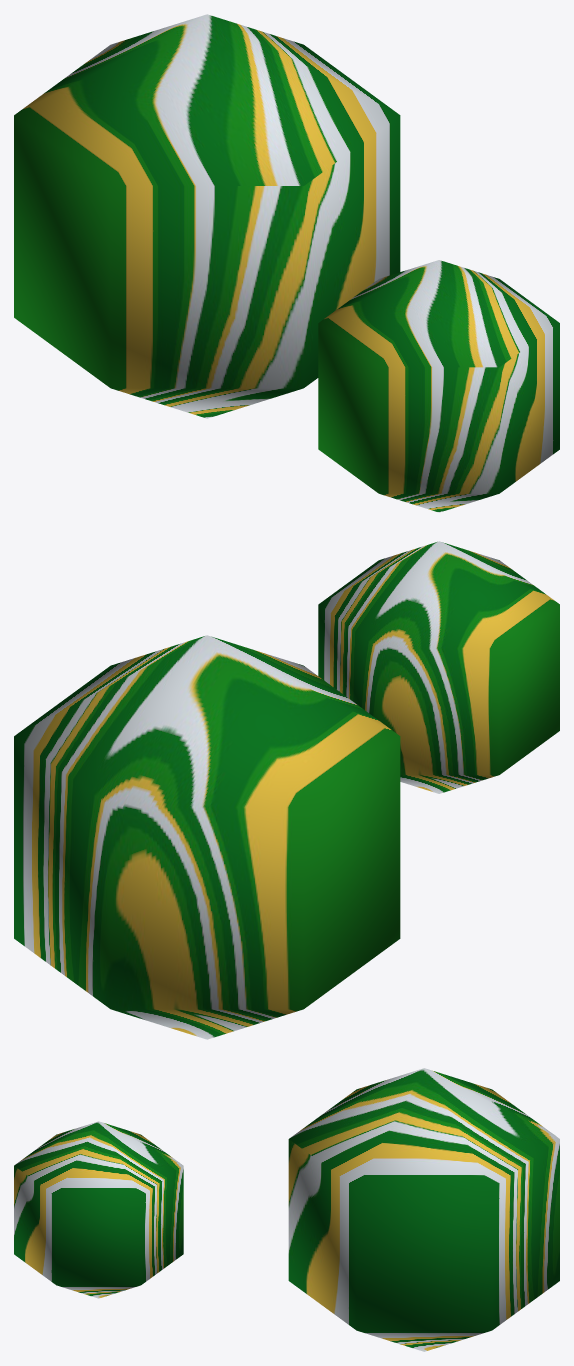
File: junglemarble_selection.DAE
The picture shows the model from 3 angles, top to bottom: view 1: azimuth 30°, elevation 25°; view 2: azimuth 150°, elevation 25°; view 3: azimuth 270°, elevation 25°; orthographic projection. The views are drawn at different scales.
Parts seen in each view (by area): view 1: Shooter_F, Standard_F; view 2: Shooter_F, Standard_F; view 3: Shooter_F, Standard_F.
Boxes of the visible parts, x1,y1,x2,y2 form: Shooter_F: (14,14,400,418); Standard_F: (318,260,559,512); Shooter_F: (14,635,400,1039); Standard_F: (318,541,559,793); Shooter_F: (288,1068,559,1351); Standard_F: (14,1121,183,1298).
Bounding box in the file's own units: 0.0381 × 0.0886 × 0.0508.
Materials: 1 (1 with a texture image).
